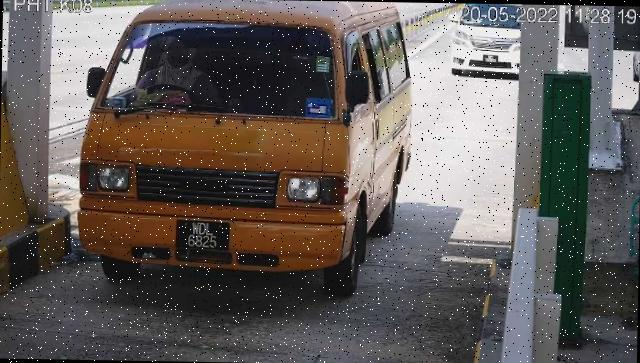License_Plate: (175, 217, 233, 255)
van: (78, 1, 414, 298)
